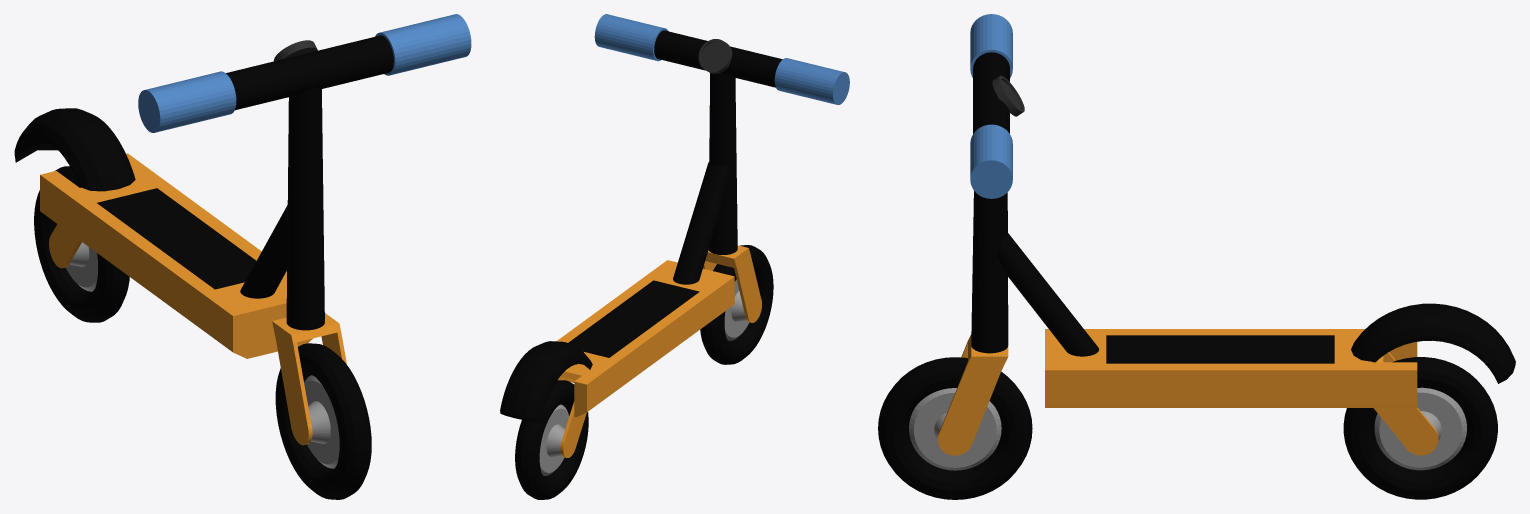
Rendered from PatineteNovo.fbx.
3 renders of one model, left to right at view 1: azimuth 30°, elevation 25°; view 2: azimuth 150°, elevation 25°; view 3: azimuth 270°, elevation 25°, orthographic. The views are drawn at different scales.
Parts seen in each view (by area): view 1: Torus; view 2: Torus, Circle; view 3: Torus, Circle.
Part boxes in pixels (bbox=[...]): Torus: bbox=[14, 14, 471, 499]; Torus: bbox=[500, 14, 849, 499]; Circle: bbox=[698, 39, 732, 73]; Torus: bbox=[878, 14, 1515, 499]; Circle: bbox=[992, 75, 1024, 116].
Bounding box in the file's own units: 689 × 923 × 1270.
